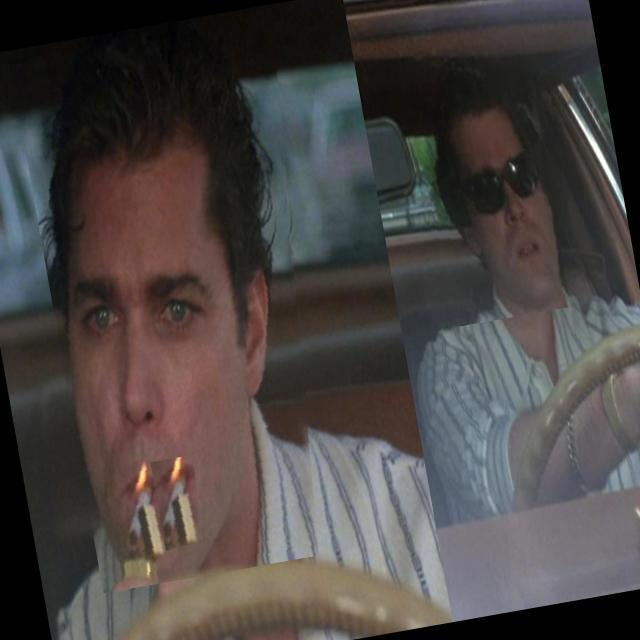cigarette: (150, 454, 210, 552)
